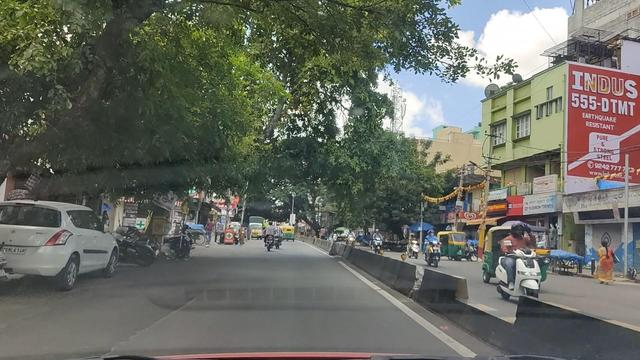LMV: (1, 195, 122, 292)
RoadDamages: (27, 277, 190, 360)
